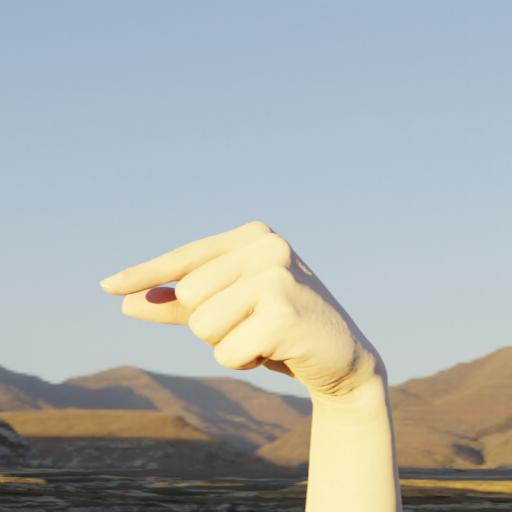G: (98, 209, 403, 418)
